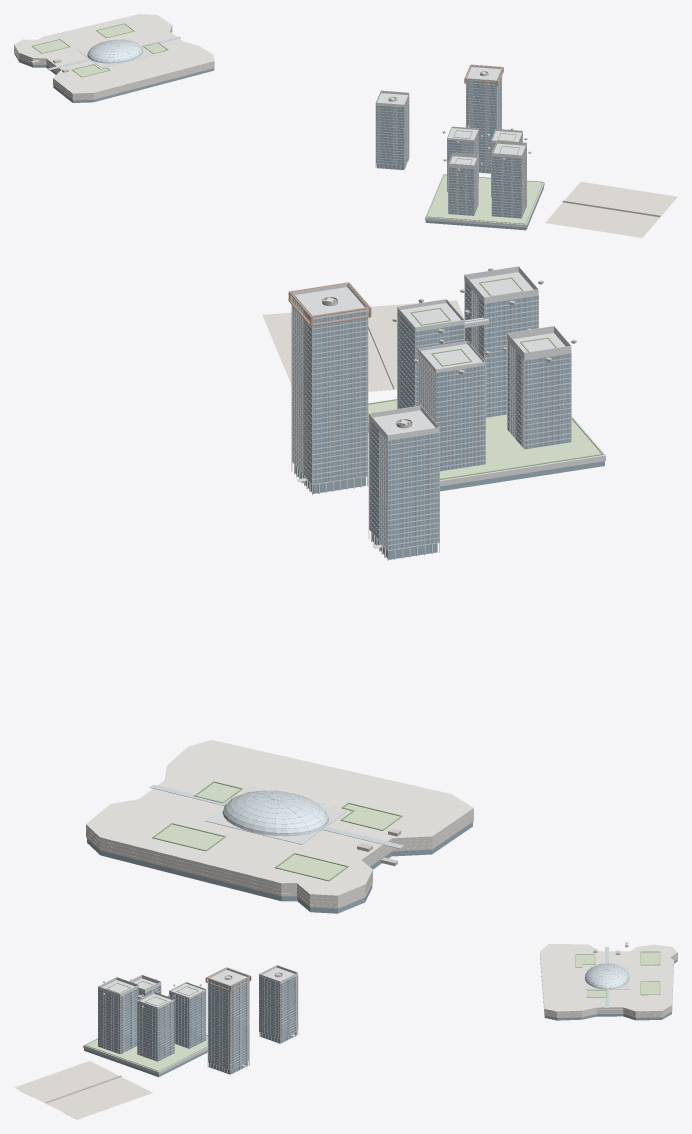
File: cbd.glb
3 renders of one model, top to bottom at view 1: azimuth 30°, elevation 25°; view 2: azimuth 150°, elevation 25°; view 3: azimuth 270°, elevation 25°, orthographic. The views are drawn at different scales.
Parts seen in each view (by area): view 1: cbd_wanxiang_roof, cbd_pit_pit, cbd_t5_curtain, cbd_t1_curtain, cbd_podium_garden, cbd_t6_curtain, cbd_wanxiang_walls, cbd_t1_bands, cbd_t5_bands, cbd_t4_curtain, cbd_wanxiang_dome, cbd_t6_bands (+10 smaller); view 2: cbd_wanxiang_roof, cbd_t1_curtain, cbd_t6_curtain, cbd_wanxiang_walls, cbd_t1_mullions, cbd_t1_bands, cbd_t4_curtain, cbd_t2_curtain, cbd_wanxiang_dome, cbd_t5_curtain, cbd_podium_garden, cbd_pit_pit (+16 smaller); view 3: cbd_wanxiang_roof, cbd_pit_pit, cbd_t1_curtain, cbd_t5_curtain, cbd_t6_curtain, cbd_t3_curtain, cbd_t1_bands, cbd_t1_mullions, cbd_t2_curtain, cbd_wanxiang_walls, cbd_t6_bands, cbd_t5_bands (+12 smaller).
Boxes of the visible parts, x1,y1,x2,y2 form: cbd_wanxiang_roof: (14,14,214,93); cbd_pit_pit: (545,181,677,237); cbd_t5_curtain: (492,148,526,218); cbd_t1_curtain: (466,75,500,168); cbd_podium_garden: (426,174,543,224); cbd_t6_curtain: (376,98,408,164); cbd_wanxiang_walls: (14,14,214,100); cbd_t1_bands: (466,67,501,168); cbd_t5_bands: (492,143,526,216); cbd_t4_curtain: (448,163,476,215); cbd_wanxiang_dome: (78,38,152,67); cbd_t6_bands: (376,93,409,165); cbd_wanxiang_roof: (86,740,472,895); cbd_t1_curtain: (292,297,367,483); cbd_t6_curtain: (369,420,439,549); cbd_wanxiang_walls: (86,740,473,908); cbd_t1_mullions: (291,296,368,494); cbd_t1_bands: (292,287,367,484); cbd_t4_curtain: (507,342,570,449); cbd_t2_curtain: (418,353,485,471); cbd_wanxiang_dome: (205,788,346,844); cbd_t5_curtain: (465,282,538,417); cbd_podium_garden: (368,399,603,479); cbd_pit_pit: (262,300,464,391); cbd_wanxiang_roof: (540,942,677,1011); cbd_pit_pit: (14,1061,152,1119); cbd_t1_curtain: (208,978,249,1069); cbd_t5_curtain: (98,988,138,1053); cbd_t6_curtain: (259,975,297,1038); cbd_t3_curtain: (137,1001,174,1061); cbd_t1_bands: (208,969,249,1069); cbd_t1_mullions: (207,978,249,1074); cbd_t2_curtain: (169,991,205,1048); cbd_wanxiang_walls: (540,944,677,1017); cbd_t6_bands: (259,967,297,1039); cbd_t5_bands: (98,980,138,1052).
Bounding box in the file's own units: 599 × 150 × 1008.
